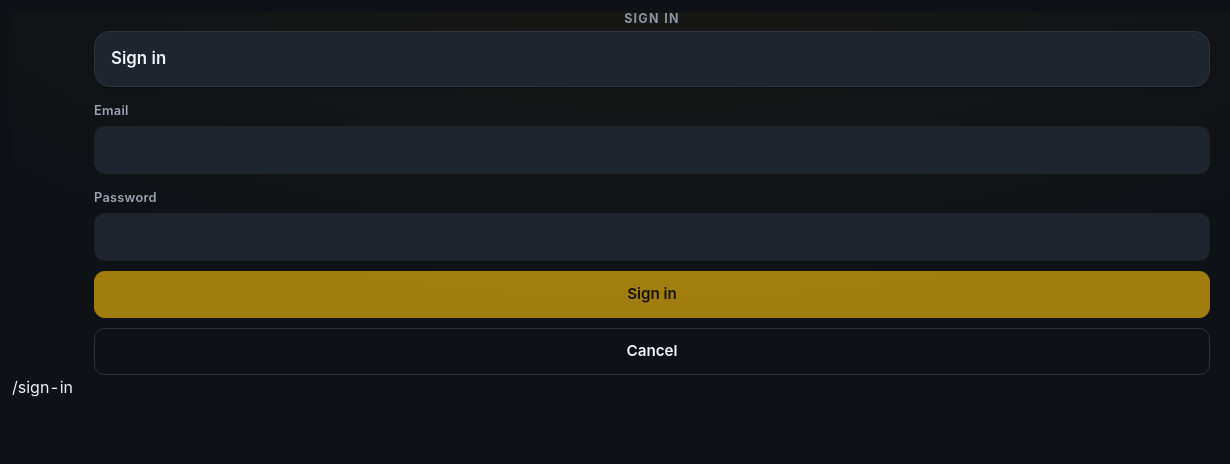
Test case: SignInScreen › shows a generic message for wrong credentials, never naming the field
The width and height of the screenshot is (1230, 464).
In the field labelled "Email": (652, 150) [94,126,1210,174], type "jane@example.com"
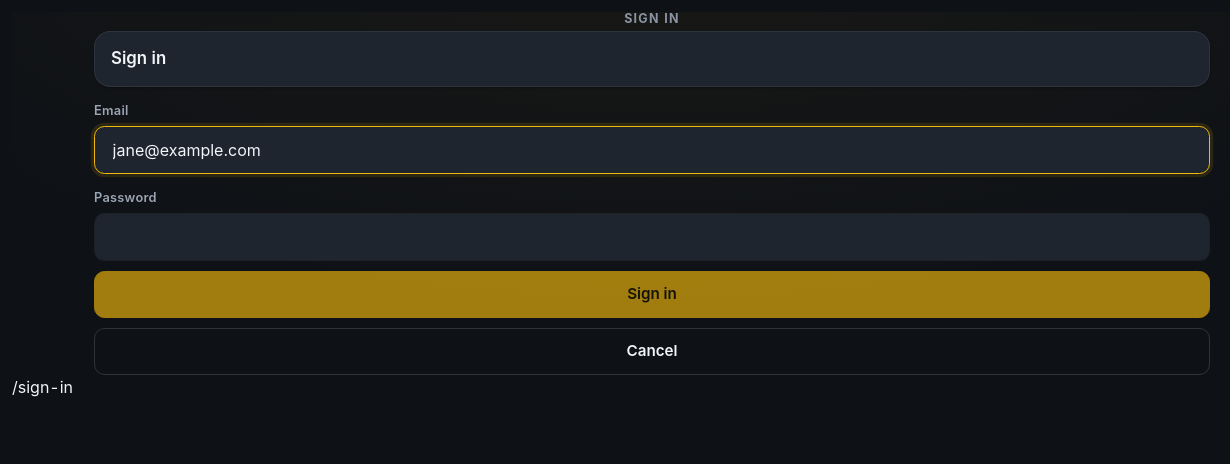
In the password field labelled "Password": (652, 236) [94,212,1210,260], type "hunter22!"
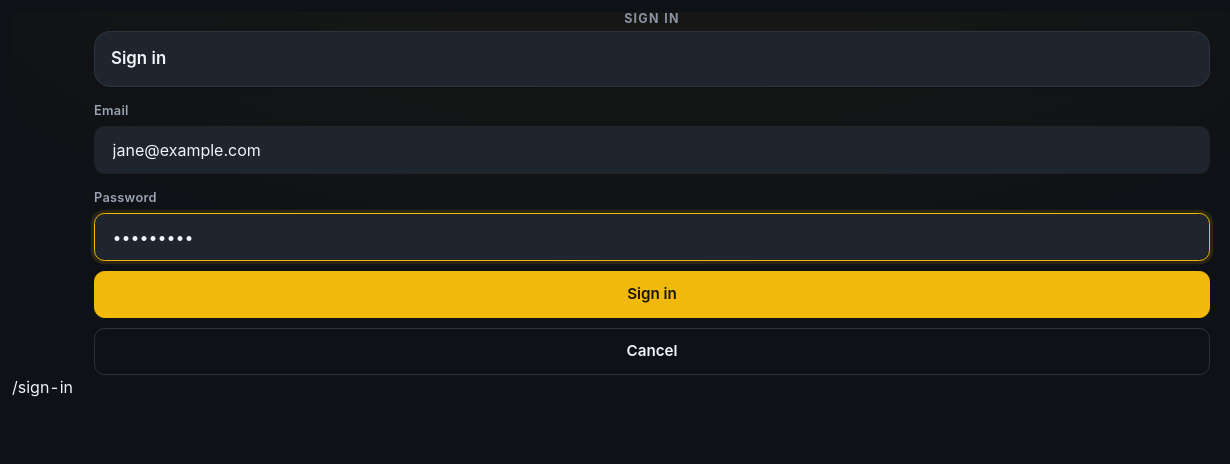
Click the button "Sign in": (652, 294) [94,270,1210,318]
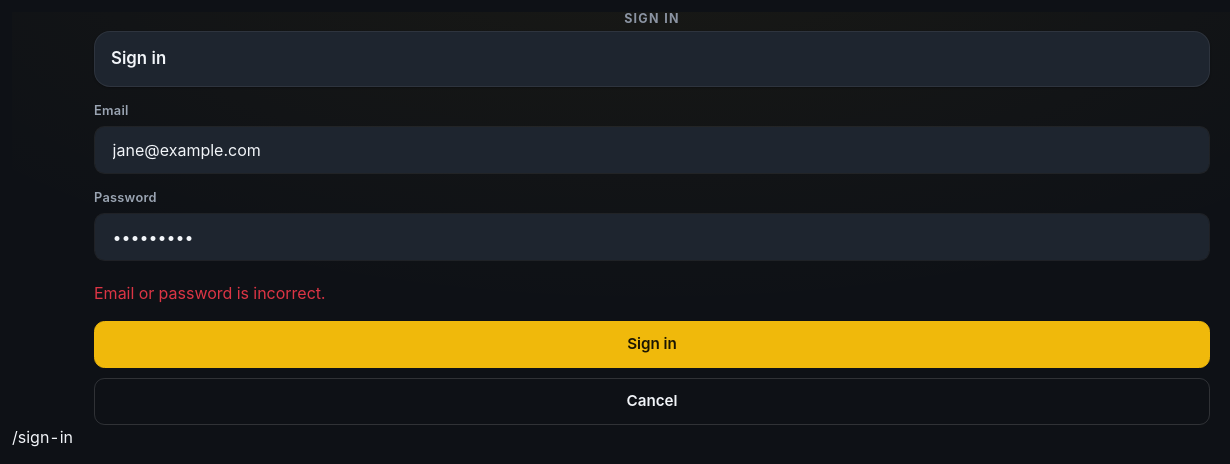
Check: the text with test id "location" reads "/sign-in", box [12,427,73,447]
Check: the message reads "Email or password is incorrect.", box [94,282,325,302]
